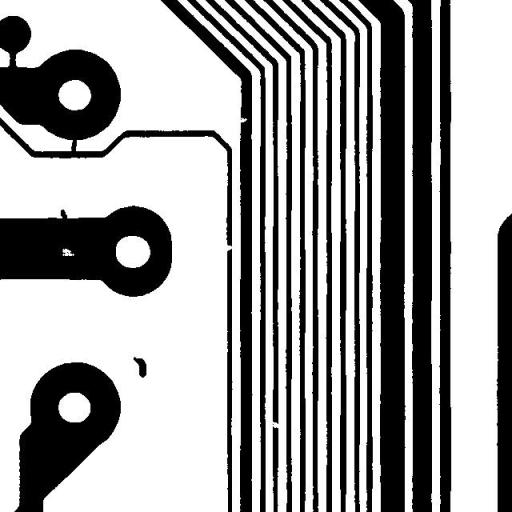copper: (126, 349, 154, 385)
mousebite: (230, 110, 254, 130)
open: (216, 237, 240, 258), (264, 414, 286, 435)
pin-hole: (54, 241, 82, 263)
short: (63, 131, 84, 161)
spur: (53, 202, 74, 227)
